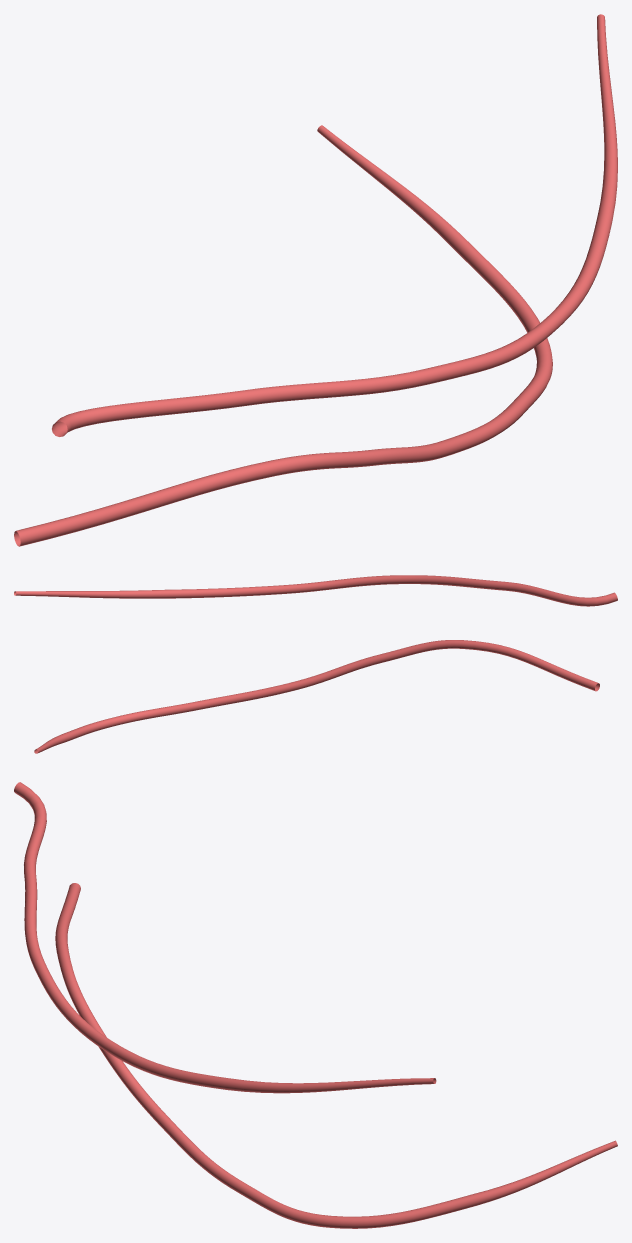
File: Lateral_pontine_branches_basilar_artery_left.glb
3 views of the same model, one above another, from view 1: azimuth 30°, elevation 25°; view 2: azimuth 150°, elevation 25°; view 3: azimuth 270°, elevation 25° (orthographic). The views are drawn at different scales.
Parts seen in each view (by area): view 1: Lateral_pontine_branches_of_basilar_artery.l_BezierCurve.239; view 2: Lateral_pontine_branches_of_basilar_artery.l_BezierCurve.239; view 3: Lateral_pontine_branches_of_basilar_artery.l_BezierCurve.239.
Part boxes in pixels (box(x1,y1,x2,y2)): Lateral_pontine_branches_of_basilar_artery.l_BezierCurve.239: box(14, 14, 617, 546); Lateral_pontine_branches_of_basilar_artery.l_BezierCurve.239: box(14, 575, 617, 753); Lateral_pontine_branches_of_basilar_artery.l_BezierCurve.239: box(14, 782, 617, 1228).
Bounding box in the file's own units: 0.0236 × 0.00716 × 0.0198.
